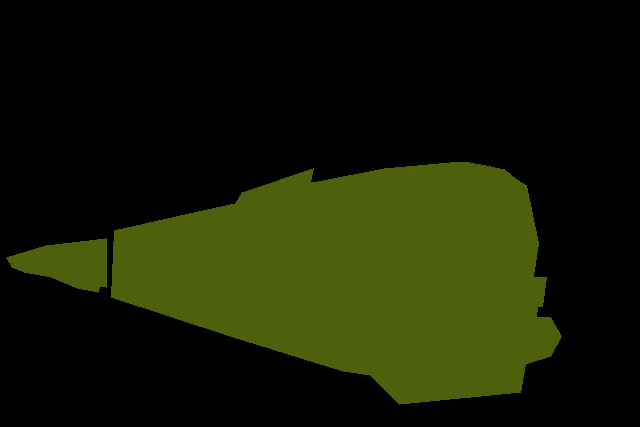Train: (6, 162, 561, 405)
